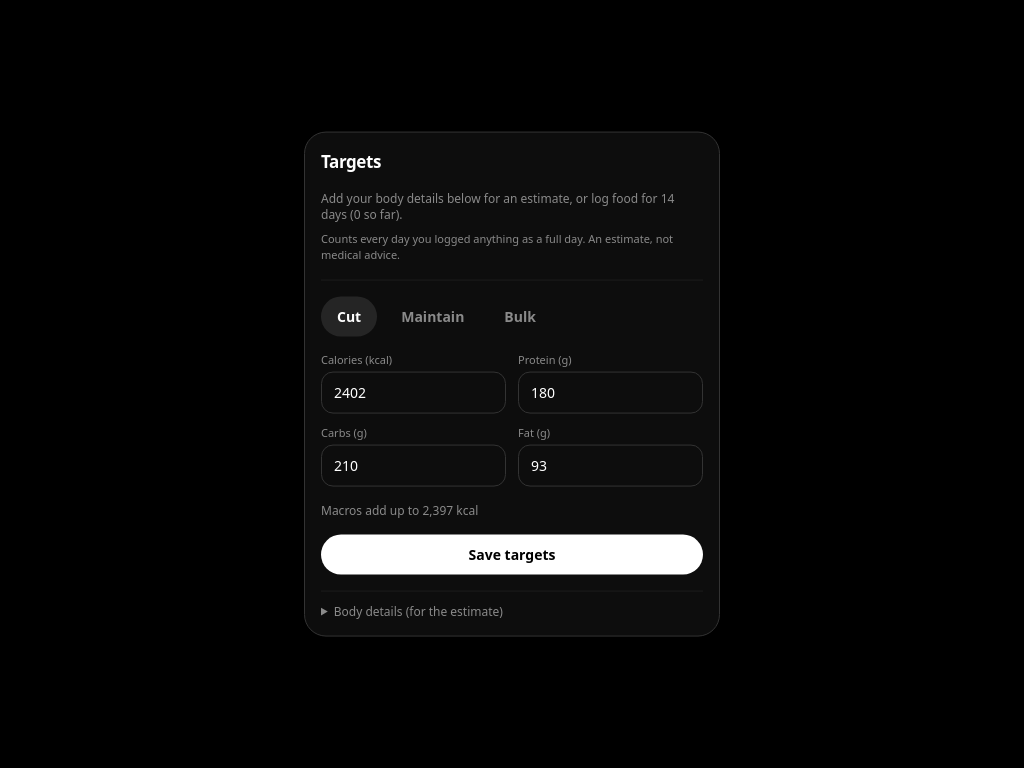
Test case: TargetsSheet › will not save without calories
Clear the field labelled "Calories (kcal)" at [414, 392], box [321,371,506,413]
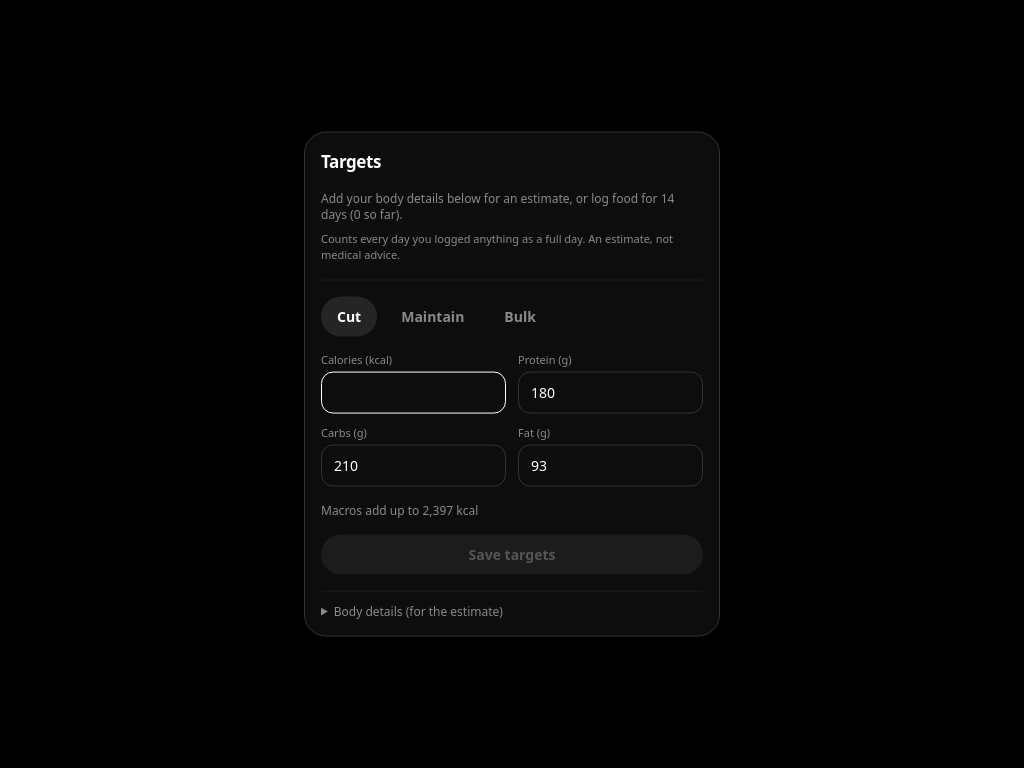
Result: the button "Save targets" is disabled at [321,534,703,574]
